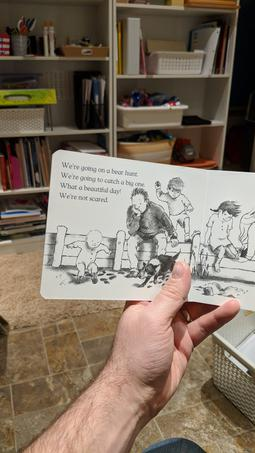text block: (53, 156, 150, 218)
